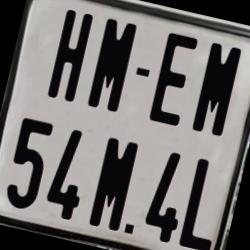4: (139, 149, 194, 247), (42, 126, 94, 221)
5: (2, 116, 52, 213)
E: (147, 30, 199, 126)
H: (46, 8, 96, 103)
L: (177, 157, 231, 250)
M: (190, 40, 242, 138), (87, 136, 139, 231), (88, 17, 138, 112)
